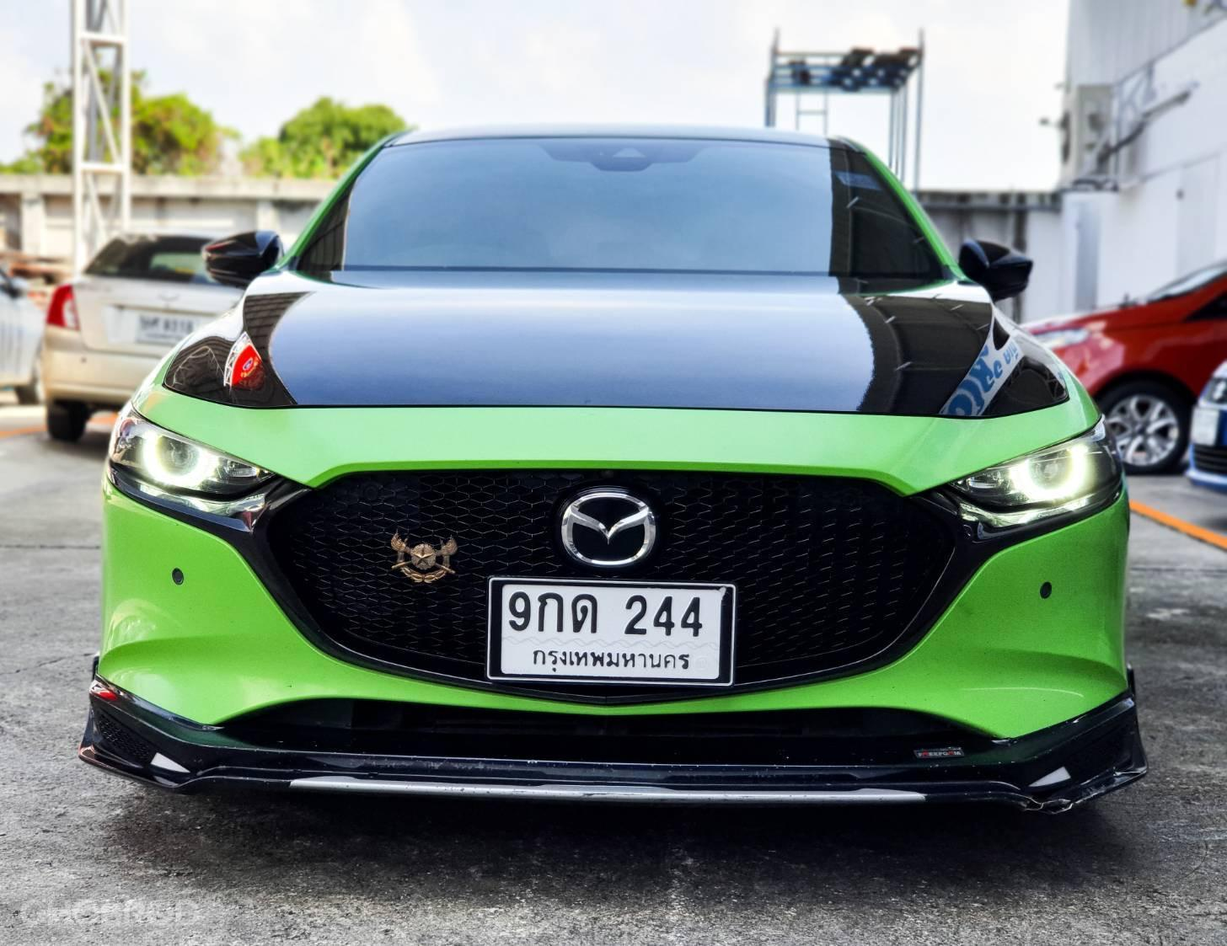license-plate: (495, 574, 738, 694)
